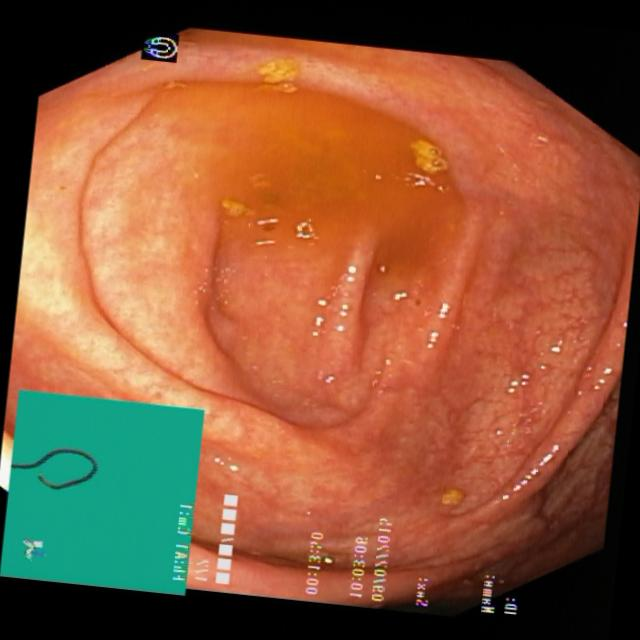normal-cecum: (123, 51, 486, 295), (421, 476, 498, 521)
